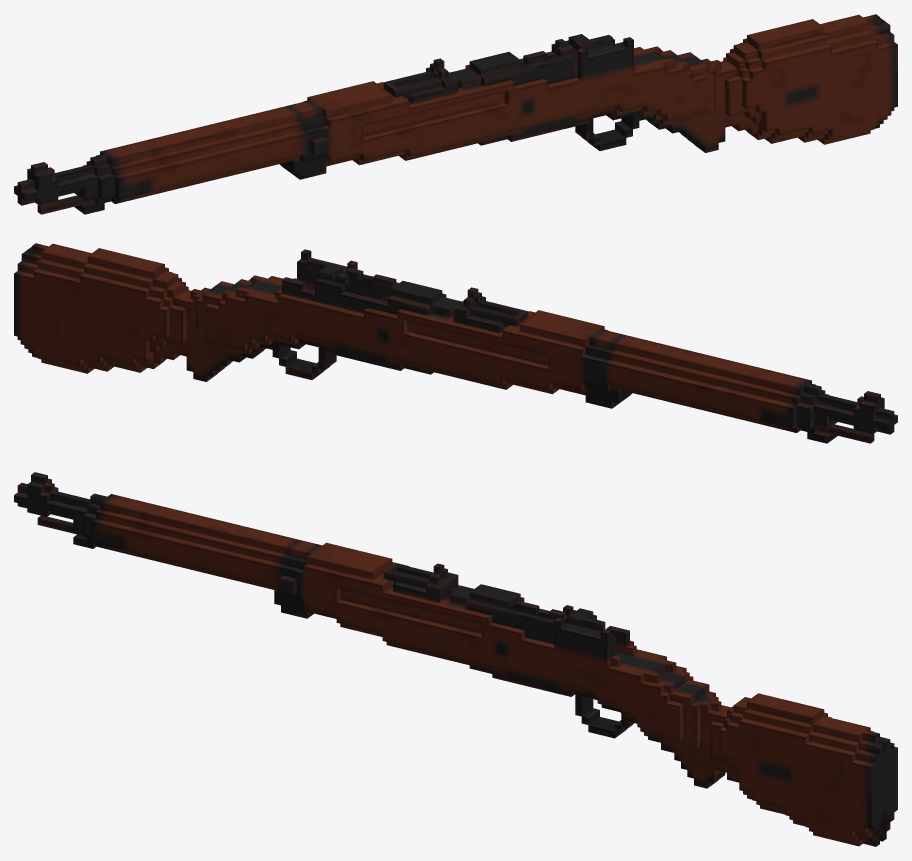
The model's file is MainGunArisaka99.fbx.
3 views of the same model, one above another, from view 1: azimuth 30°, elevation 25°; view 2: azimuth 150°, elevation 25°; view 3: azimuth 330°, elevation 25° (orthographic).
Visible parts, largest first — view 1: MainGunArisaka99.001; view 2: MainGunArisaka99.001; view 3: MainGunArisaka99.001.
Boxes of the visible parts, <box> form: MainGunArisaka99.001: <box>14,14,897,214</box>; MainGunArisaka99.001: <box>14,243,897,443</box>; MainGunArisaka99.001: <box>14,472,897,846</box>.
Bounding box in the file's own units: 13.1 × 2.5 × 0.8.
1 material, 1 textured.
